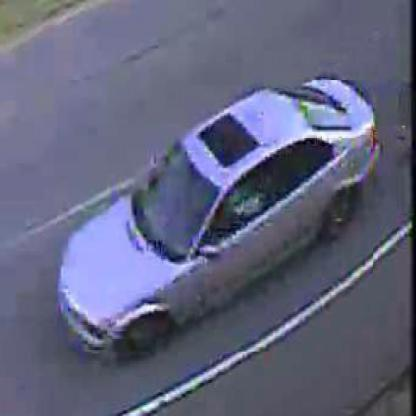car: (57, 81, 374, 354)
